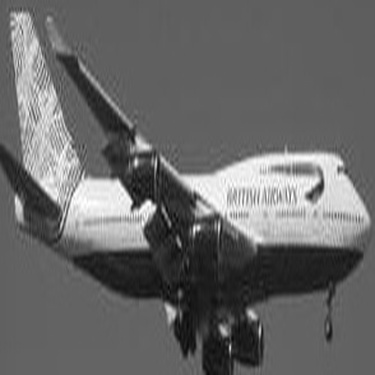airplane: (12, 6, 373, 373)
